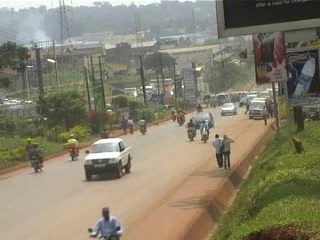Car: (191, 109, 215, 127), (219, 100, 240, 117)
Motorcycle: (84, 225, 123, 239), (27, 151, 45, 174), (66, 143, 81, 163), (183, 124, 195, 141), (199, 126, 210, 144), (176, 114, 187, 128), (136, 124, 147, 136)
